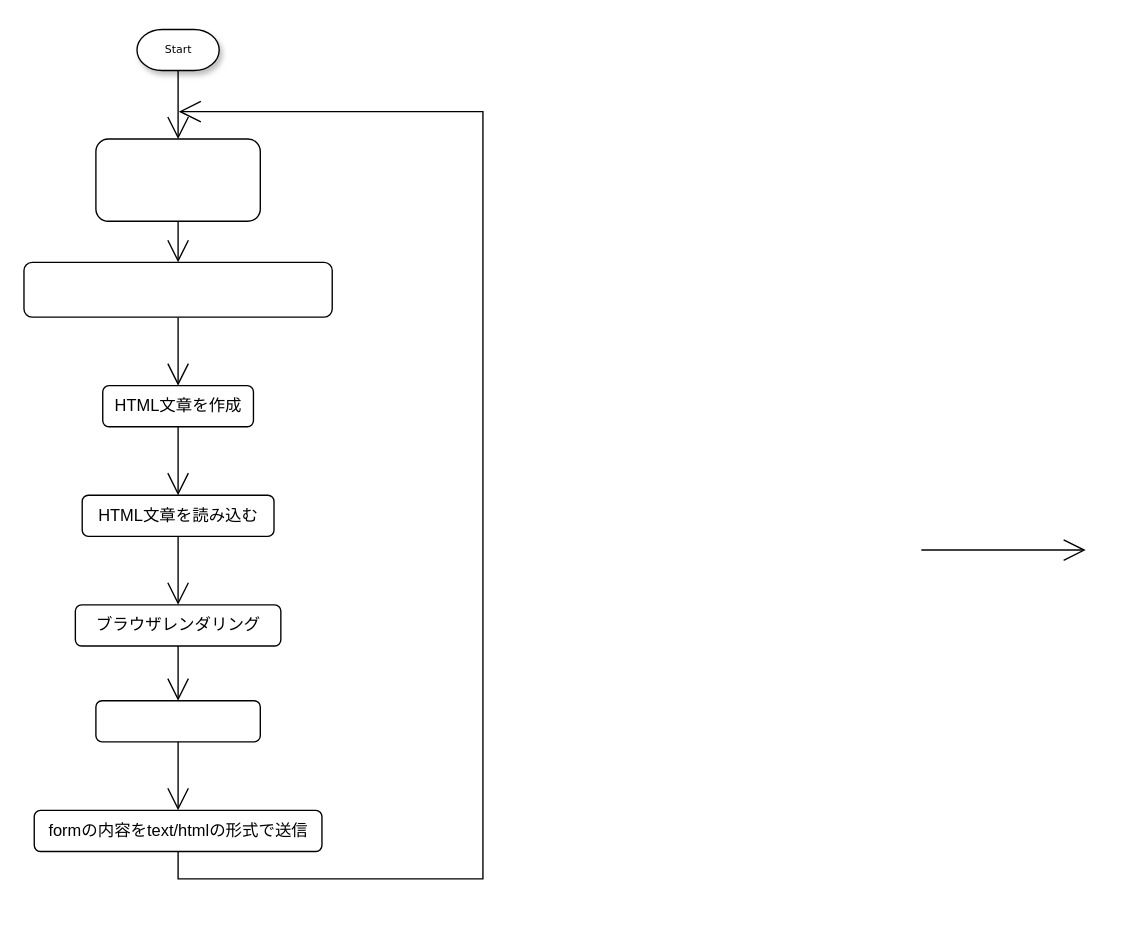
The diagram is 1132 pixels wide and 925 high, and some of its shapes have lost their labels. The centre of each missing label's shape, as x and y in pixels:
"formから受けとった内容を$bodyに格納" goes at point 177,179.
"formから受け取った内容を出力するためのHTML文章を出力" goes at point 177,289.
"formに入力を行う" goes at point 177,720.
